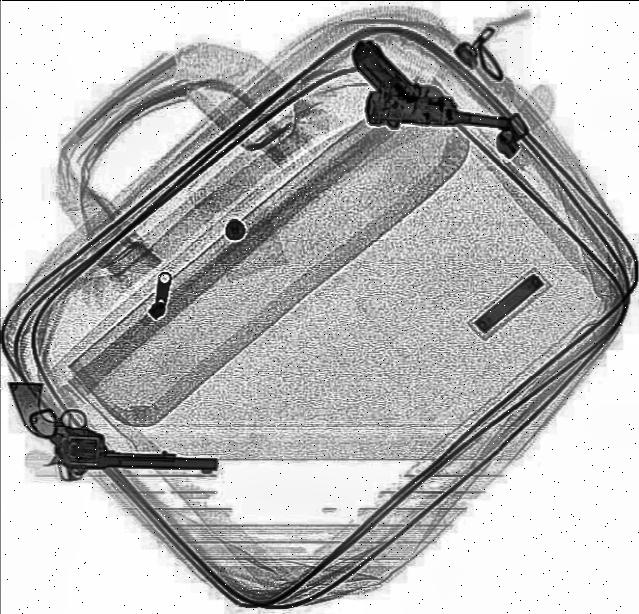Gun: (7, 380, 219, 470), (343, 35, 523, 138)
